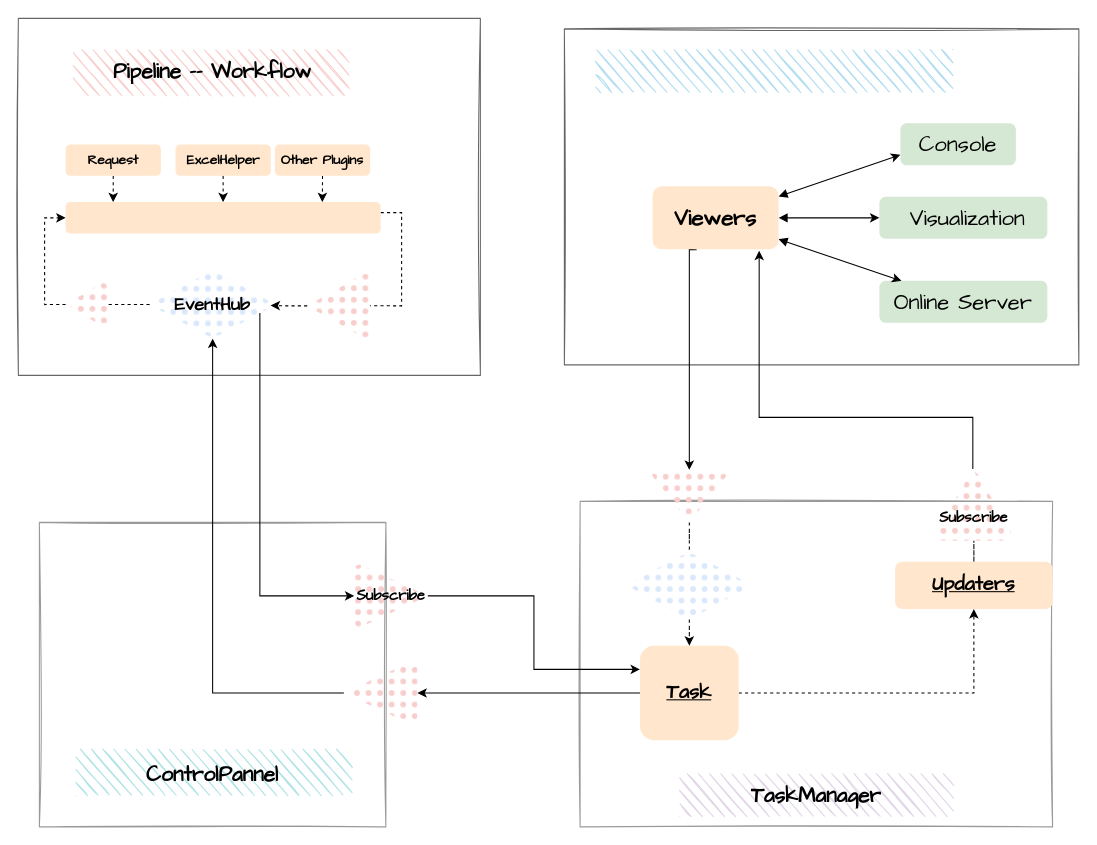
This 1097x845 diagram has some shape labels left out. Here are the shapes that lost their labels. From the top down, the box of each, then its label:
(595, 49, 952, 91): Mirror —— Viewer of state
(65, 202, 380, 233): PIPELINE
(65, 279, 107, 329): start
(307, 270, 370, 341): Commit
(647, 469, 731, 522): emit
(626, 551, 752, 619): createTask
(343, 658, 417, 727): init flow
